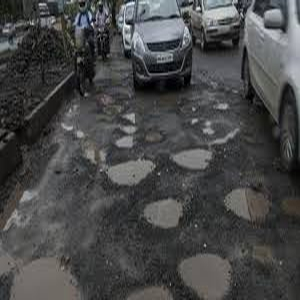pothole: (8, 258, 84, 300), (175, 253, 237, 300), (223, 186, 272, 221), (107, 159, 163, 185), (141, 198, 188, 228), (170, 151, 214, 173)
